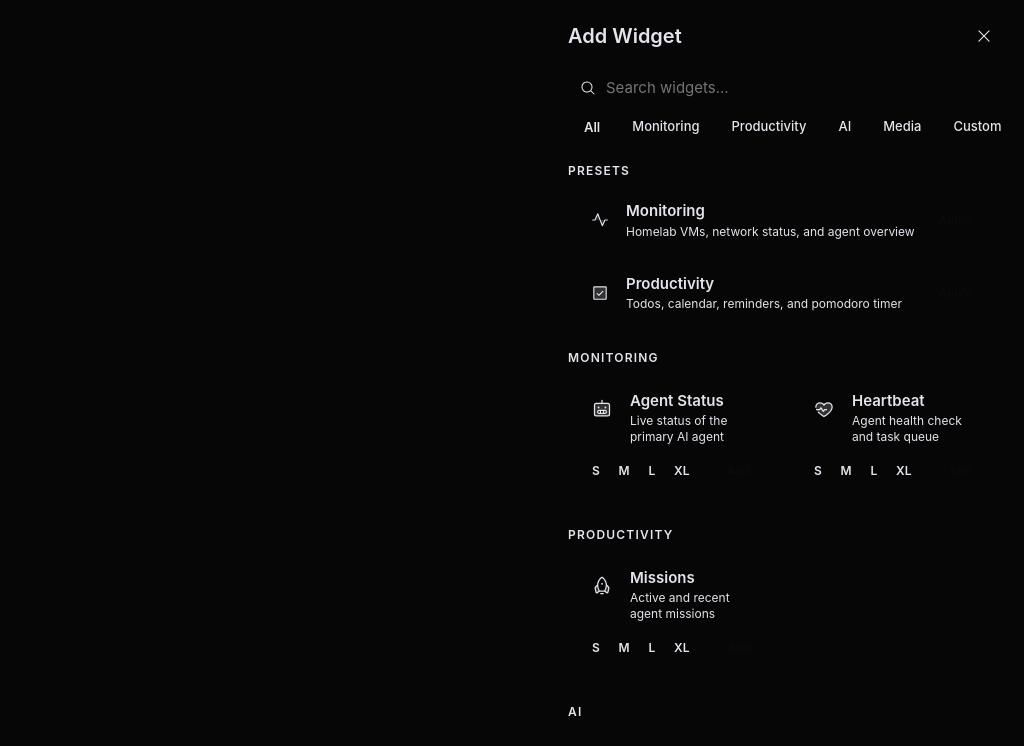
Test: WidgetPicker › search input filters widgets by name and description (case-insensitive)
Step 1. Type "missions" into the field with placeholder "Search widgets..." → (796, 88), box [604, 76, 988, 100]
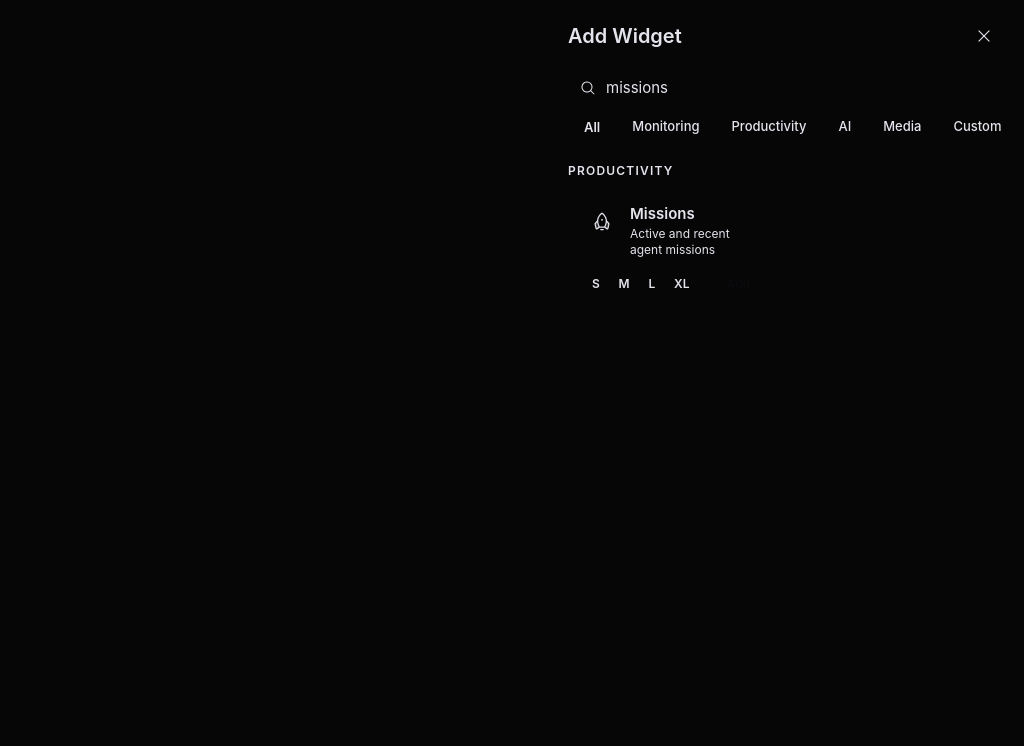
Expected: the text "Missions" is shown, [630, 204, 695, 223]
Expected: the text "Agent Status" is gone
Expected: the text "Heartbeat" is gone
